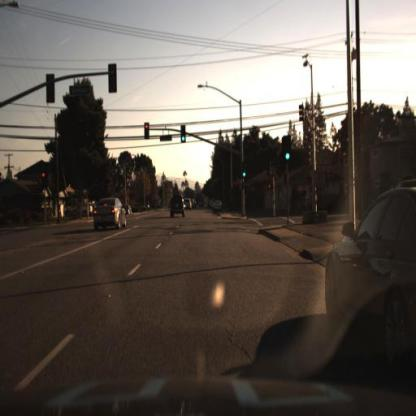car: (312, 169, 416, 379), (90, 194, 132, 241), (118, 194, 148, 228), (72, 201, 95, 222), (169, 196, 187, 220), (212, 198, 225, 217)
trafficLight-Green: (284, 136, 293, 165), (241, 157, 250, 185), (180, 127, 188, 148), (240, 170, 248, 182), (284, 151, 292, 163), (179, 133, 187, 144)
trafficLight-RedLeft: (144, 122, 152, 143), (43, 167, 48, 187), (143, 124, 151, 136), (41, 172, 46, 184)
